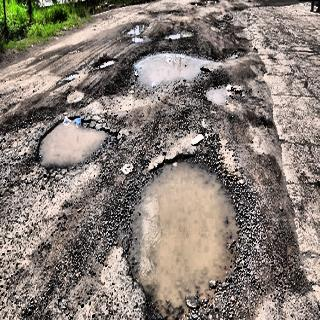pothole: (117, 127, 259, 320), (29, 106, 124, 182), (133, 27, 227, 94), (60, 82, 100, 111), (120, 24, 150, 48), (93, 46, 118, 71), (56, 64, 82, 85)
